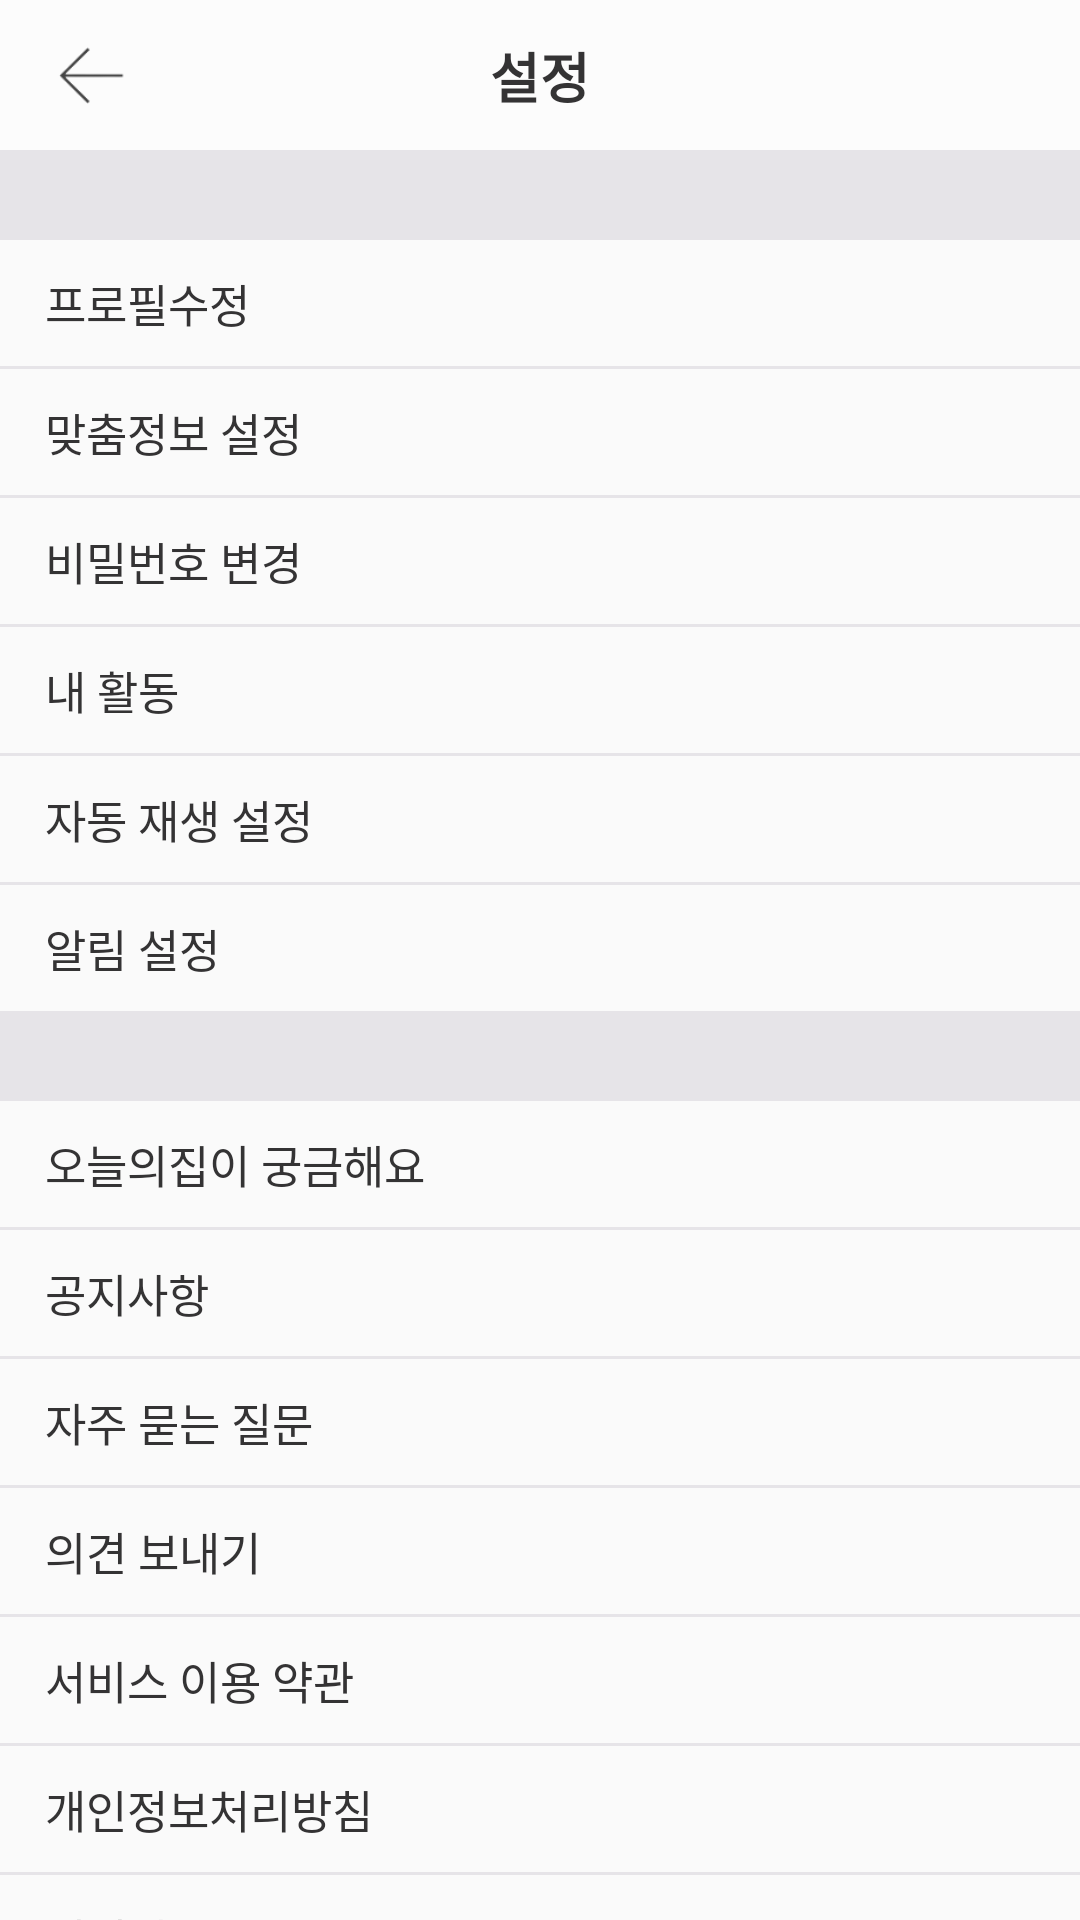

Icon bounding boxes for this 1080w x 1920h phone screenshot, format (x1, y1, x2, y2):
back arrow: (60, 48, 124, 104)
